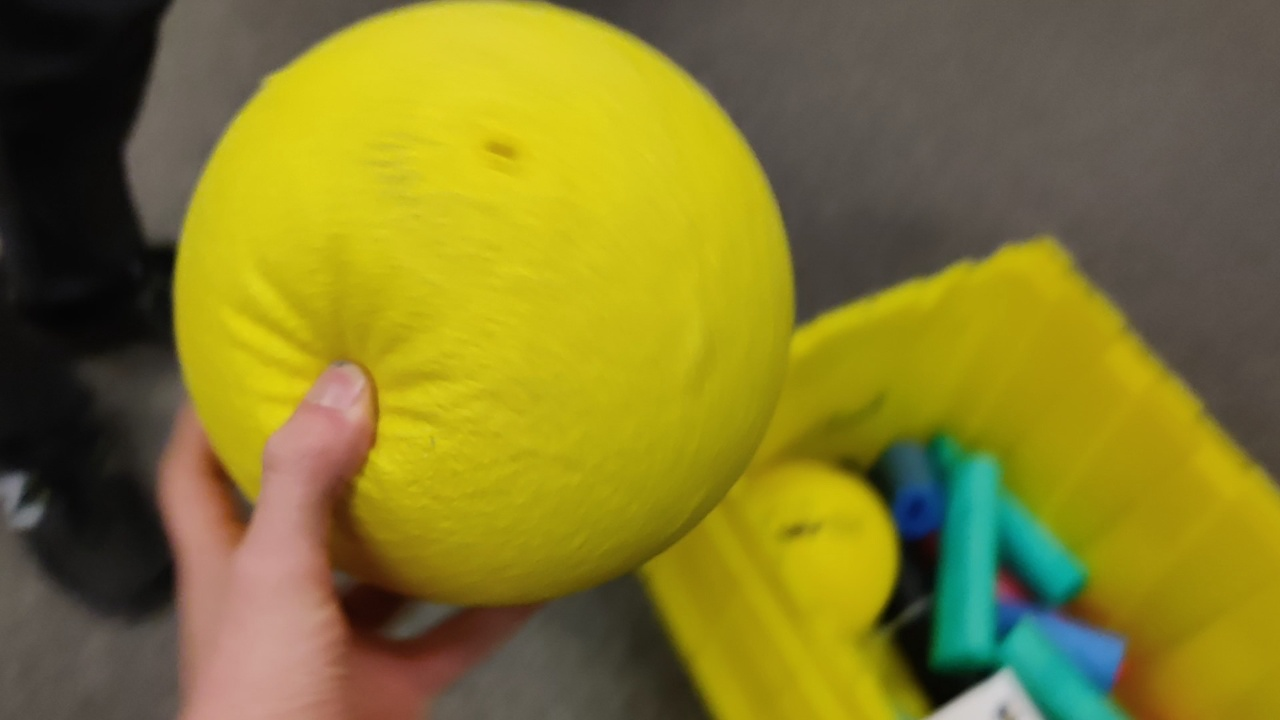Ball: (172, 1, 796, 606)
